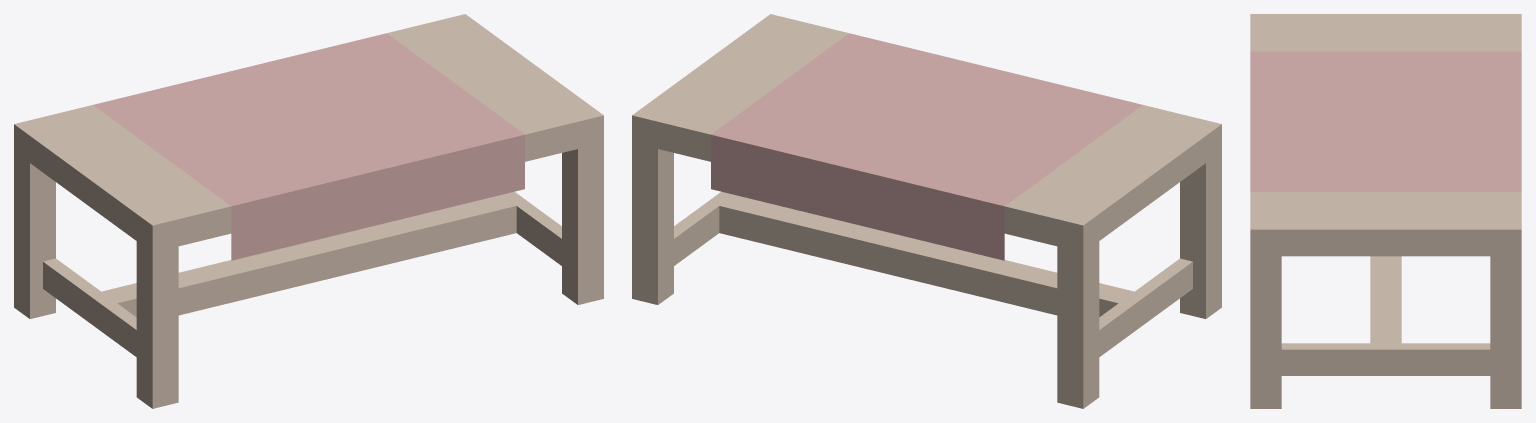
Rendered from furn_tableCloth.glb.
3 renders of one model, left to right at view 1: azimuth 30°, elevation 25°; view 2: azimuth 150°, elevation 25°; view 3: azimuth 270°, elevation 25°, orthographic. The views are drawn at different scales.
Size of the model in its own units: 1.68 by 0.6535 by 0.8947.
